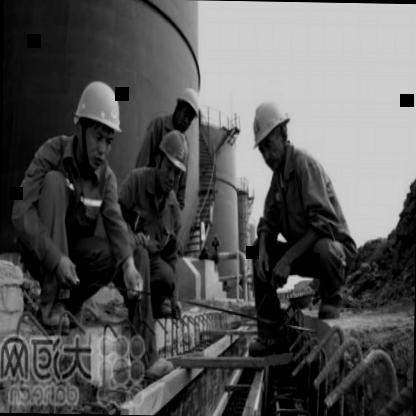helmet: (72, 78, 124, 168), (249, 96, 296, 171), (151, 129, 191, 200), (169, 80, 204, 140)
